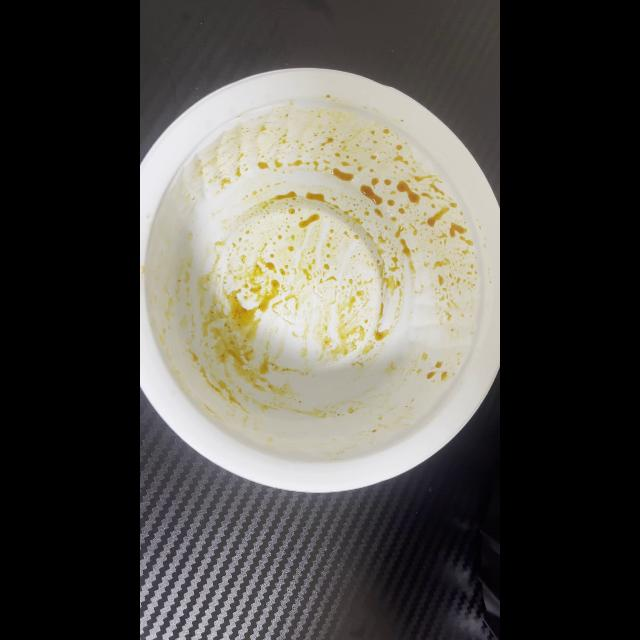dirty: (140, 69, 496, 485)
